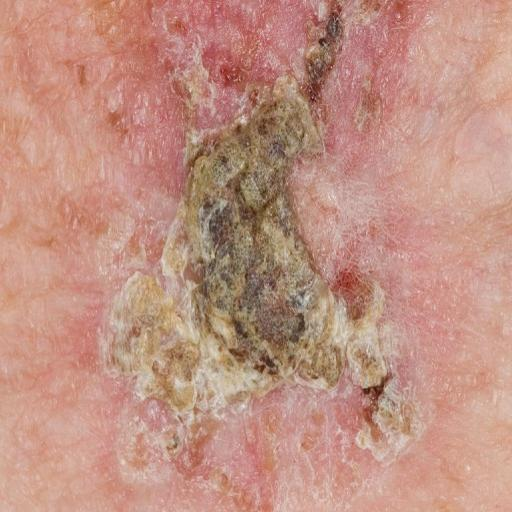Skin_Lesion: (152, 53, 287, 256), (201, 265, 347, 402), (111, 282, 194, 428), (347, 0, 409, 150), (351, 338, 416, 450), (296, 30, 326, 118), (101, 103, 134, 156), (383, 0, 413, 33), (326, 0, 348, 45), (198, 0, 234, 21), (74, 58, 93, 89), (171, 17, 188, 39)
